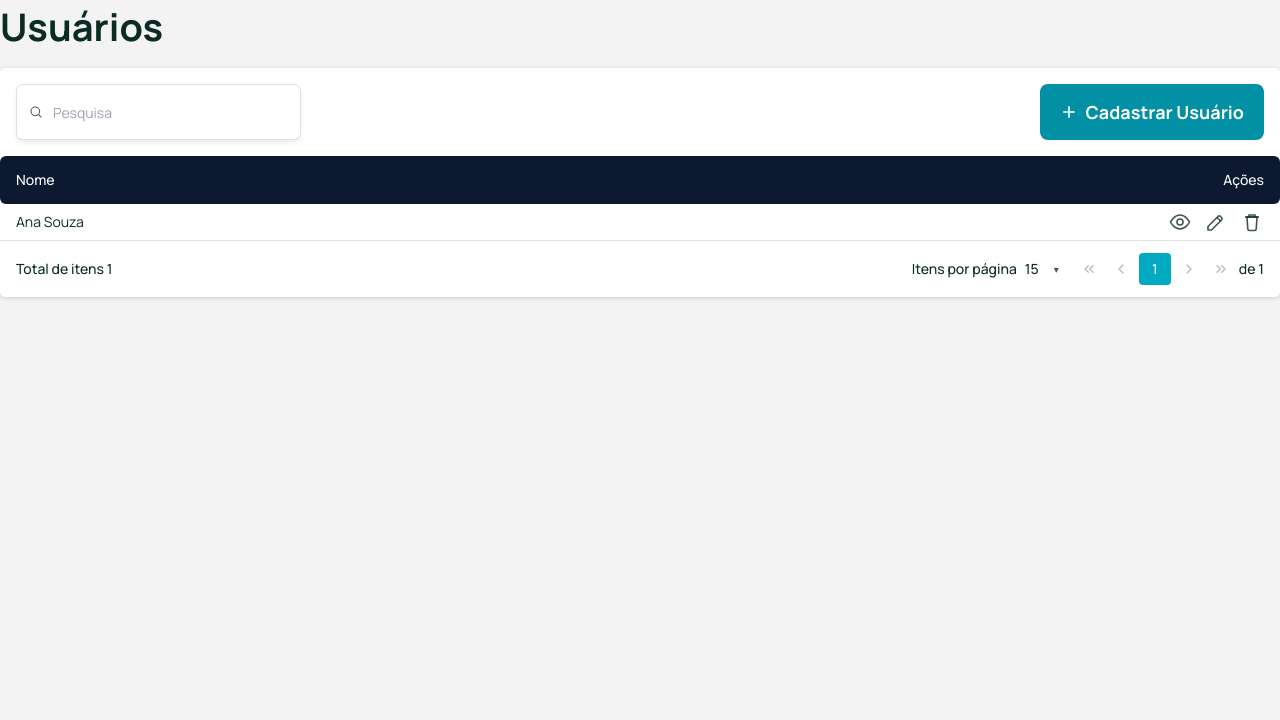
Test: UsersListPage › keeps the user when the delete confirmation is declined
Expected: the text "Ana Souza" is shown, left=0, top=204, right=561, bottom=240
Click the button named "Excluir Ana Souza" at (1252, 222), box left=1240, top=210, right=1264, bottom=234
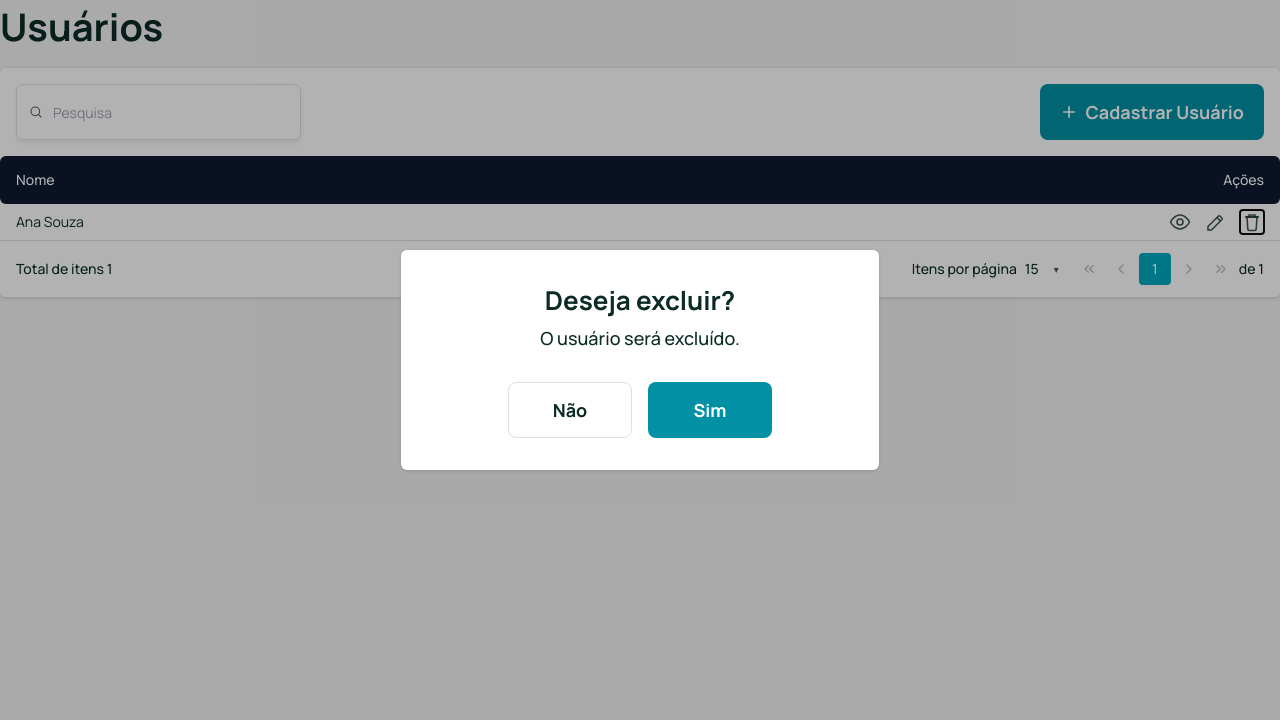
Click the button "Não" at (570, 410), box left=508, top=382, right=632, bottom=438
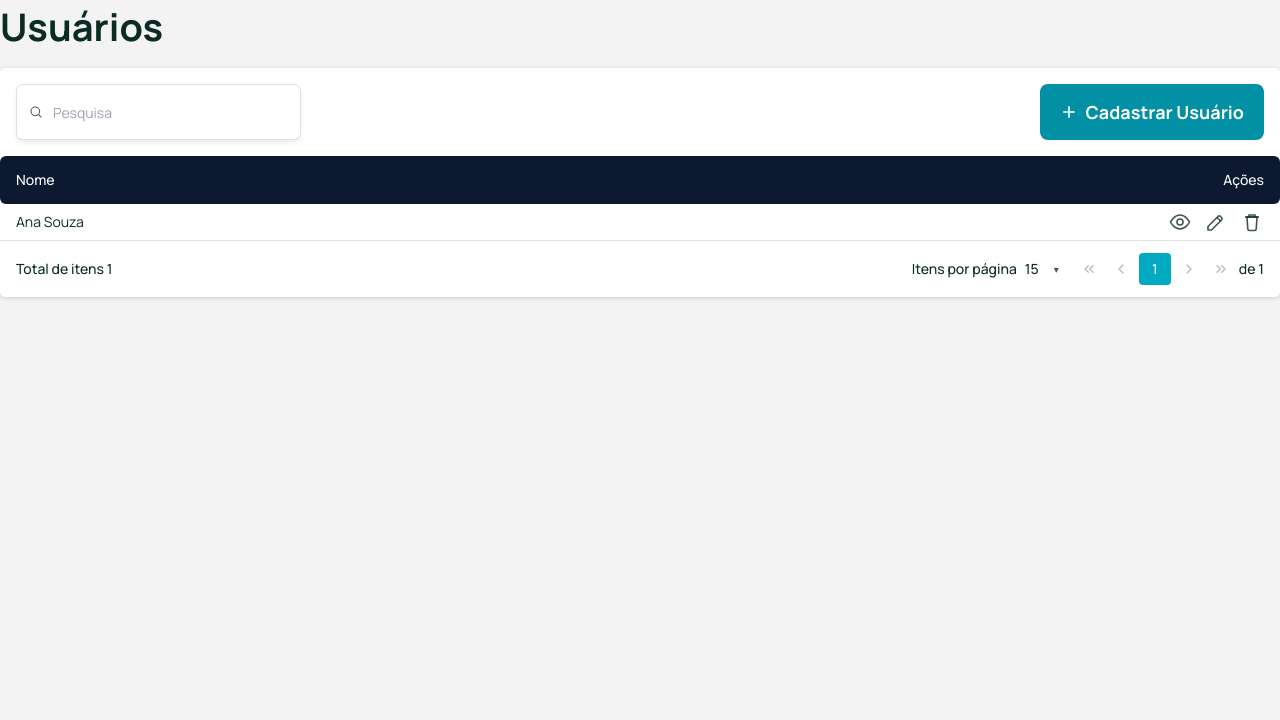
Expected: the text "Ana Souza" is shown, left=0, top=204, right=561, bottom=240
Expected: the heading "Deseja excluir?" is gone
